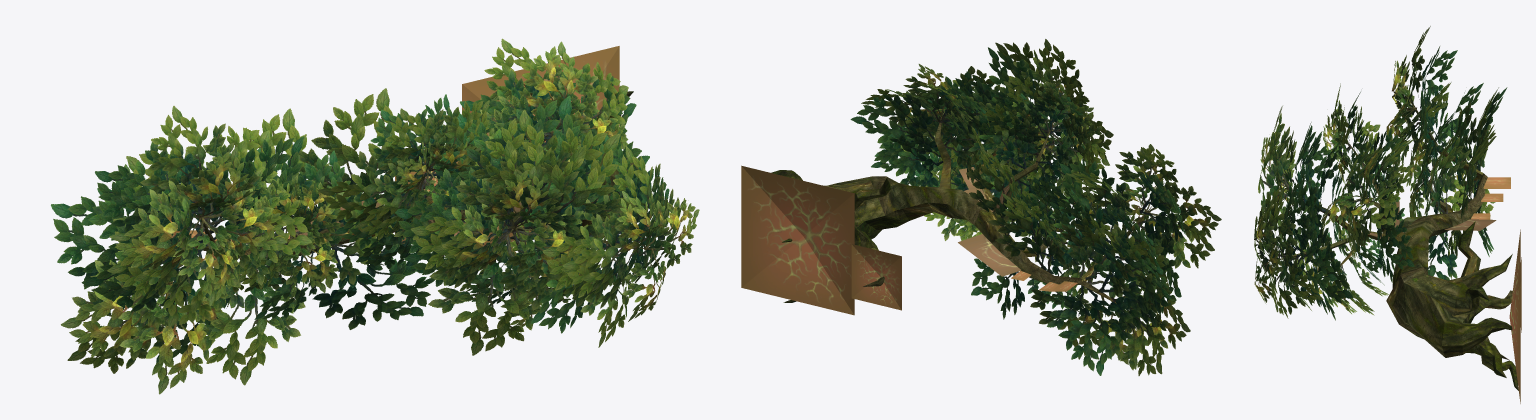
Rendered from jingling_02_tree_03.obj.
3 renders of one model, left to right at view 1: azimuth 30°, elevation 25°; view 2: azimuth 150°, elevation 25°; view 3: azimuth 270°, elevation 25°, orthographic. The views are drawn at different scales.
Visible parts, largest first — view 1: jingling_02_tree_03; view 2: jingling_02_tree_03; view 3: jingling_02_tree_03.
Boxes of the visible parts, left/top/right/bottom form: jingling_02_tree_03: left=51, top=38, right=699, bottom=394; jingling_02_tree_03: left=741, top=39, right=1221, bottom=375; jingling_02_tree_03: left=1254, top=26, right=1521, bottom=403.
Size of the model in its own units: 1418 by 798 by 736.
Materials: 6 (6 with a texture image).
